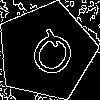Q: (21, 26, 81, 88)
